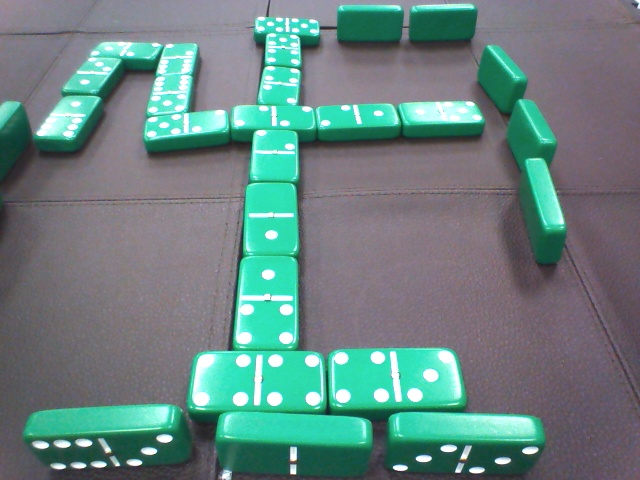B: (185, 348, 326, 417), (325, 343, 469, 409), (230, 255, 304, 348), (232, 182, 310, 256), (311, 97, 405, 146), (142, 105, 229, 157), (227, 96, 318, 144), (396, 96, 488, 142), (242, 130, 307, 185), (33, 96, 97, 147), (58, 54, 129, 95), (86, 34, 161, 68), (247, 9, 326, 38), (147, 72, 196, 115), (259, 32, 308, 71), (253, 65, 304, 102), (158, 41, 201, 78)
C: (1, 98, 28, 190)
D: (510, 157, 570, 269), (497, 99, 566, 168), (468, 43, 528, 113)
E: (16, 402, 197, 475), (208, 404, 369, 480), (383, 404, 544, 476)
F: (409, 3, 484, 45), (335, 4, 405, 46)
